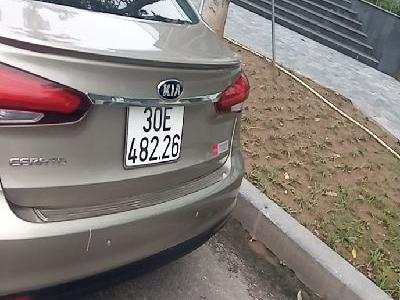car: (127, 107, 184, 166)
